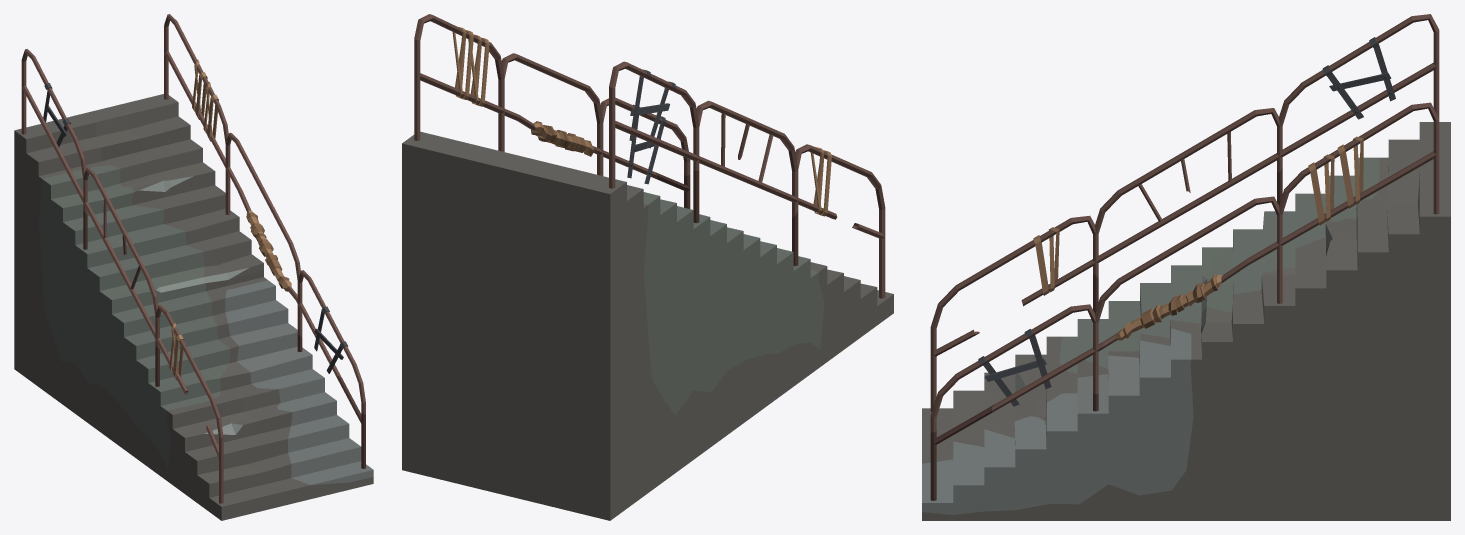
Rendered from SM_Stairs.gltf.
The picture shows the model from 3 angles, left to right: view 1: azimuth 30°, elevation 25°; view 2: azimuth 150°, elevation 25°; view 3: azimuth 270°, elevation 25°; orthographic projection. The views are drawn at different scales.
Visible parts, largest first — view 1: SM_Stairs, SM_Stairs_Railing_R, SM_Stairs_Railing_L; view 2: SM_Stairs, SM_Stairs_Railing_L, SM_Stairs_Railing_R; view 3: SM_Stairs, SM_Stairs_Railing_R, SM_Stairs_Railing_L.
Boxes of the visible parts, x1=… form: SM_Stairs: x1=14, y1=94, x2=373, y2=520; SM_Stairs_Railing_R: x1=164, y1=14, x2=365, y2=468; SM_Stairs_Railing_L: x1=21, y1=49, x2=223, y2=503; SM_Stairs: x1=402, y1=131, x2=893, y2=520; SM_Stairs_Railing_L: x1=609, y1=61, x2=885, y2=298; SM_Stairs_Railing_R: x1=414, y1=14, x2=690, y2=208; SM_Stairs: x1=922, y1=122, x2=1450, y2=520; SM_Stairs_Railing_R: x1=930, y1=102, x2=1439, y2=500; SM_Stairs_Railing_L: x1=930, y1=14, x2=1439, y2=411.
Bounding box in the file's own units: 2 × 4.08 × 4.72.
Materials: 1 (1 with a texture image).
